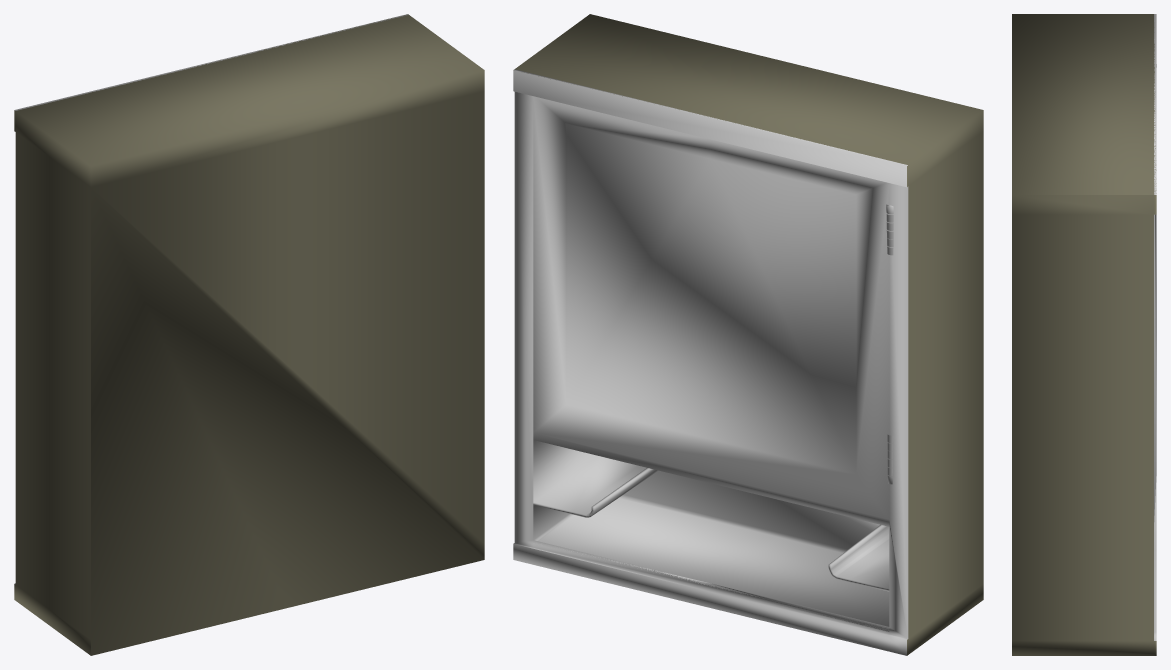
The model's file is stateroom_mirror.fbx.
3 renders of one model, left to right at view 1: azimuth 30°, elevation 25°; view 2: azimuth 150°, elevation 25°; view 3: azimuth 270°, elevation 25°, orthographic. The views are drawn at different scales.
Parts seen in each view (by area): view 1: Empty_Mesh; view 2: Empty_Mesh; view 3: Empty_Mesh.
Part boxes in pixels (<box>): Empty_Mesh: <box>14,14,484,655</box>; Empty_Mesh: <box>513,14,983,655</box>; Empty_Mesh: <box>1012,14,1156,655</box>.
Size of the model in its own units: 3.83 by 4.55 by 1.3.
